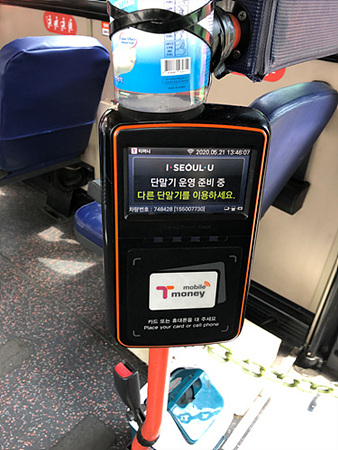terminal: (101, 101, 260, 352)
